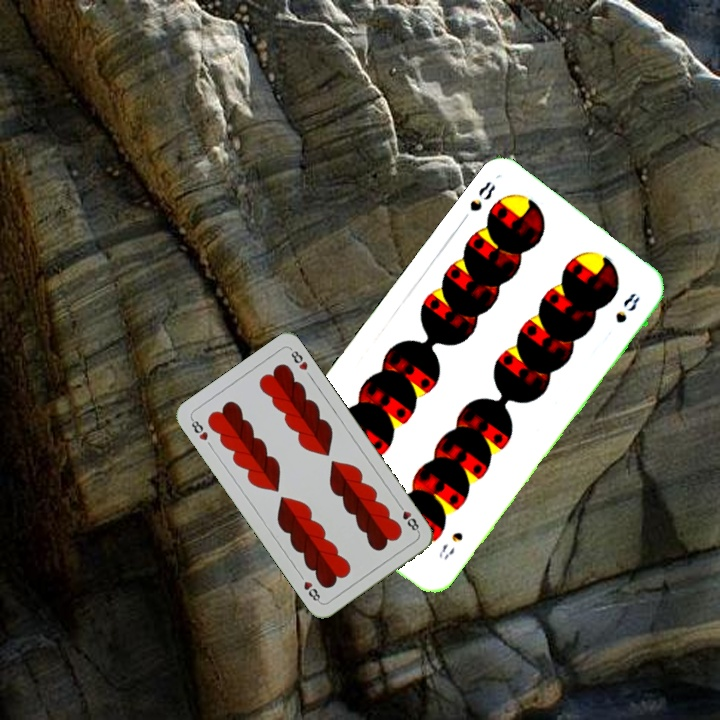H8: (394, 499, 422, 535), (187, 414, 211, 443)
S8: (465, 177, 498, 214), (434, 527, 466, 563)
